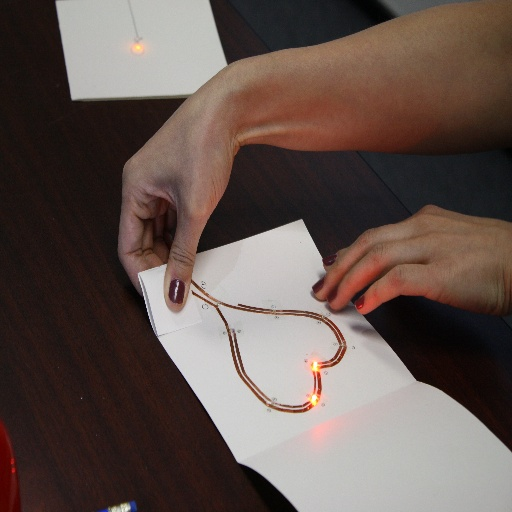hand: (114, 82, 239, 312), (311, 198, 504, 344)
